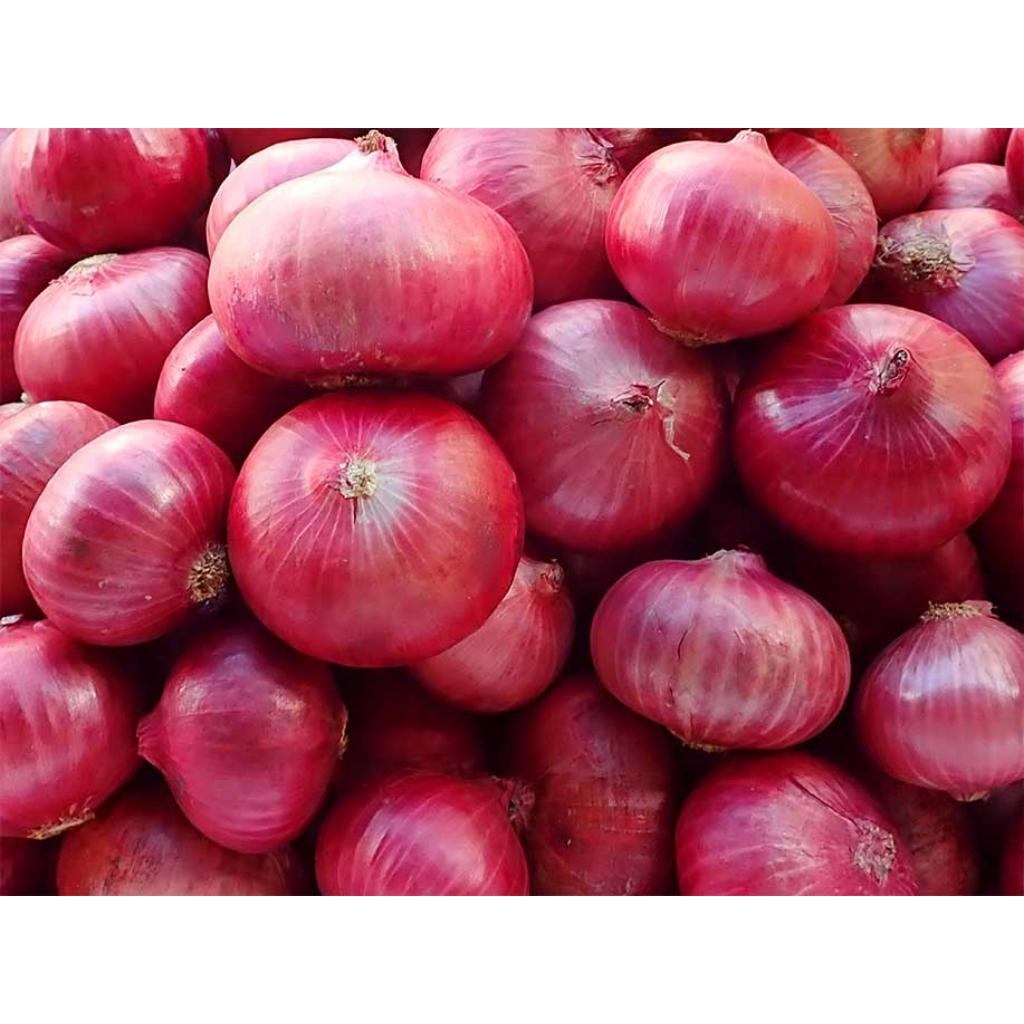Onion: (209, 130, 536, 387), (226, 392, 525, 671), (730, 304, 1014, 561), (473, 299, 728, 555), (137, 607, 350, 856), (590, 551, 852, 753), (604, 130, 838, 349), (22, 419, 238, 648), (673, 750, 920, 896), (12, 246, 212, 425), (851, 603, 1024, 802), (315, 763, 528, 896), (409, 558, 577, 719)
